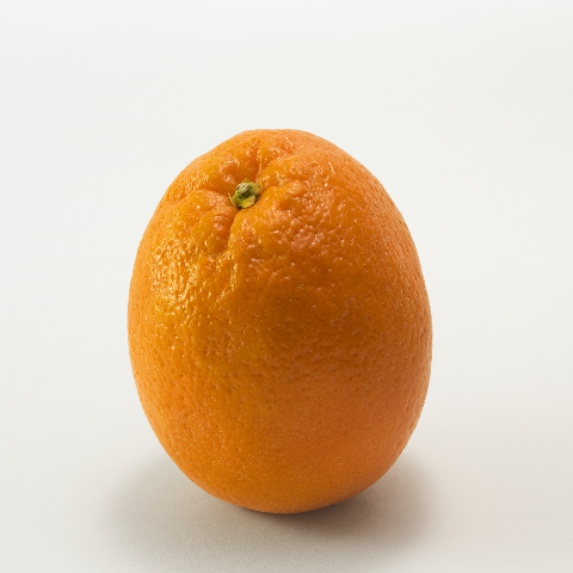orange: (77, 82, 512, 561)
